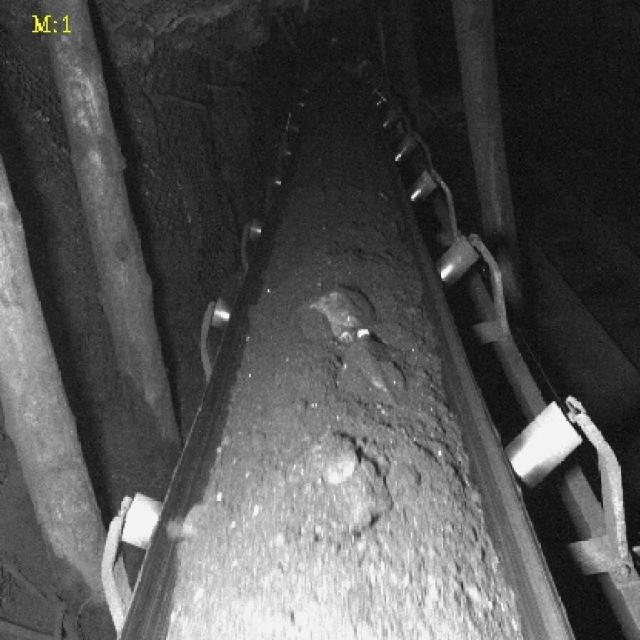large_sized_coal: (288, 428, 389, 537), (304, 286, 376, 342), (340, 343, 406, 391)
